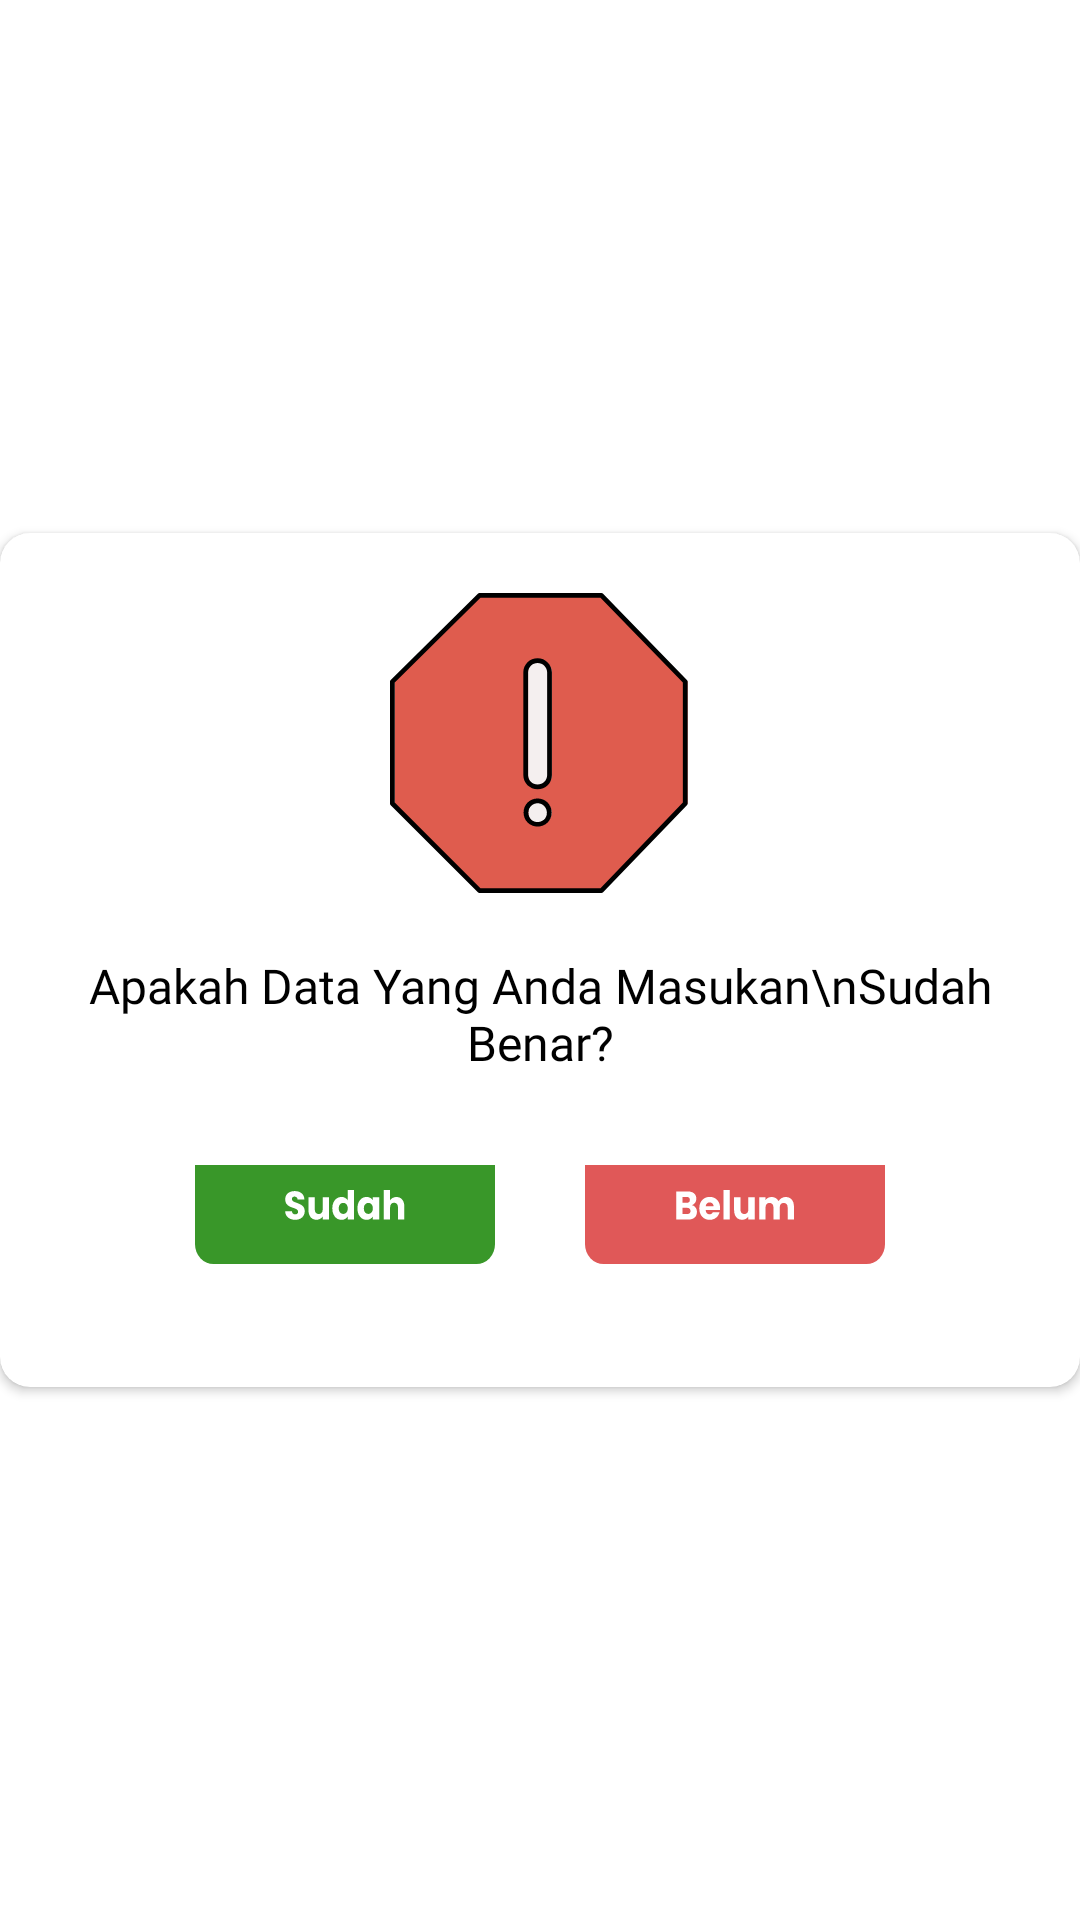

Named icons in this screenshot (1080x1920) and their centers, (x,y):
warn: (539,743)
